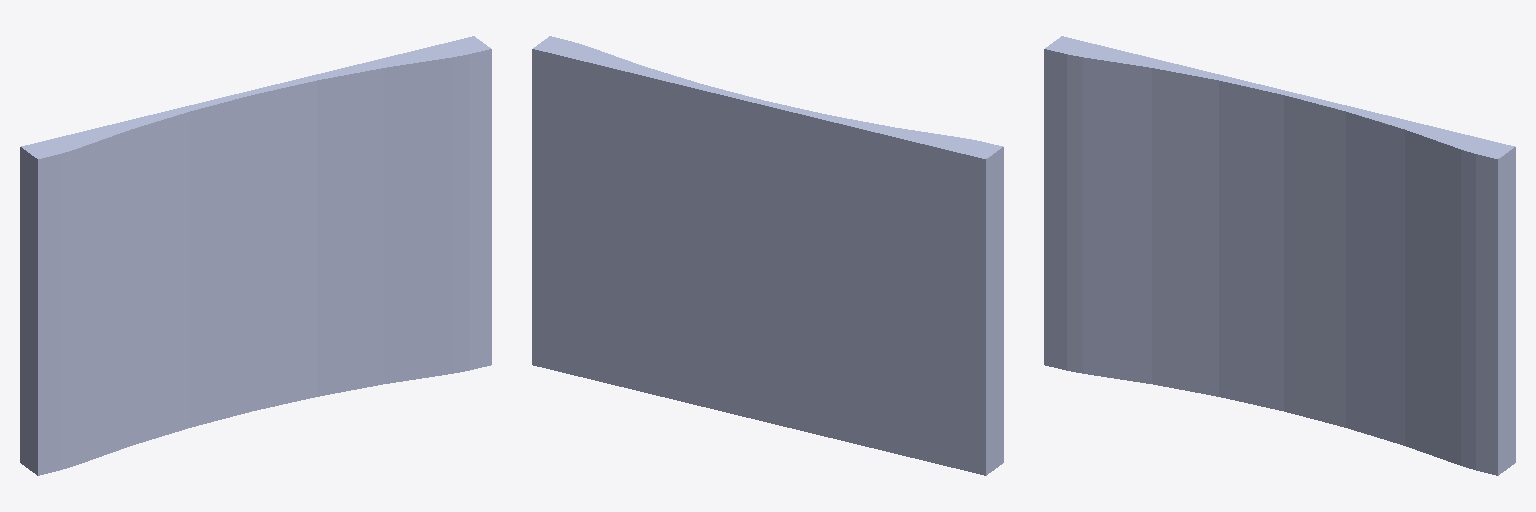
The robot description file, URDF, robot "surface":
<?xml version="1.0" encoding="utf-8"?>
<!-- This URDF was automatically created by SolidWorks to URDF Exporter! Originally created by [author] ([email redacted]) 
     Commit Version: 1.5.1-0-g916b5db  Build Version: 1.5.7152.31018
     For more information, please see http://wiki.ros.org/sw_urdf_exporter -->
<robot
  name="surface">
  <link
    name="Unknown_surface">
    <inertial>
      <origin
        xyz="-3.1923E-17 -0.0069755 -5.80428879189456E-17"
        rpy="0 0 0" />
      <mass
        value="0.70432" />
      <inertia
        ixx="0.0023652"
        ixy="9.4721E-18"
        ixz="-1.1266E-18"
        iyy="0.0096623"
        iyz="5.44994990684386E-19"
        izz="0.007332" />
    </inertial>
    <visual>
      <origin
        xyz="0 0 0"
        rpy="1.5707963267949 0 0" />
      <geometry>
        <mesh
          filename="package://Unknown_surface/meshes/Unknown_surface.STL" />
      </geometry>
      <material
        name="">
        <color
          rgba="0.79216 0.81961 0.93333 1" />
        <texture
          filename="package://Unknown_surface/textures/" />
      </material>
    </visual>
    <collision>
      <origin
        xyz="0 0 0"
        rpy="1.5707963267949 0 0" />
      <geometry>
        <mesh
          filename="package://Unknown_surface/meshes/Unknown_surface.STL" />
      </geometry>
    </collision>
  </link>
</robot>

--- Render facts (derived) ---
Views: 3 orthographic renders of the robot side by side, from view 1: azimuth 30°, elevation 25°; view 2: azimuth 150°, elevation 25°; view 3: azimuth 330°, elevation 25°.
Robot: surface — 1 links, 0 joints (none); root link Unknown_surface; default pose: every joint at zero.
Visible links, largest first — view 1: Unknown_surface; view 2: Unknown_surface; view 3: Unknown_surface.
Link boxes in pixels (x1,y1,x2,y2): Unknown_surface: (20, 36, 491, 475); Unknown_surface: (532, 36, 1003, 475); Unknown_surface: (1044, 36, 1515, 475).
Bounding box of the posed robot: 0.3 × 0.02 × 0.2 m (x, y, z).
Meshes: 1 distinct files referenced, 1 mesh visuals loaded (1 binary STL).